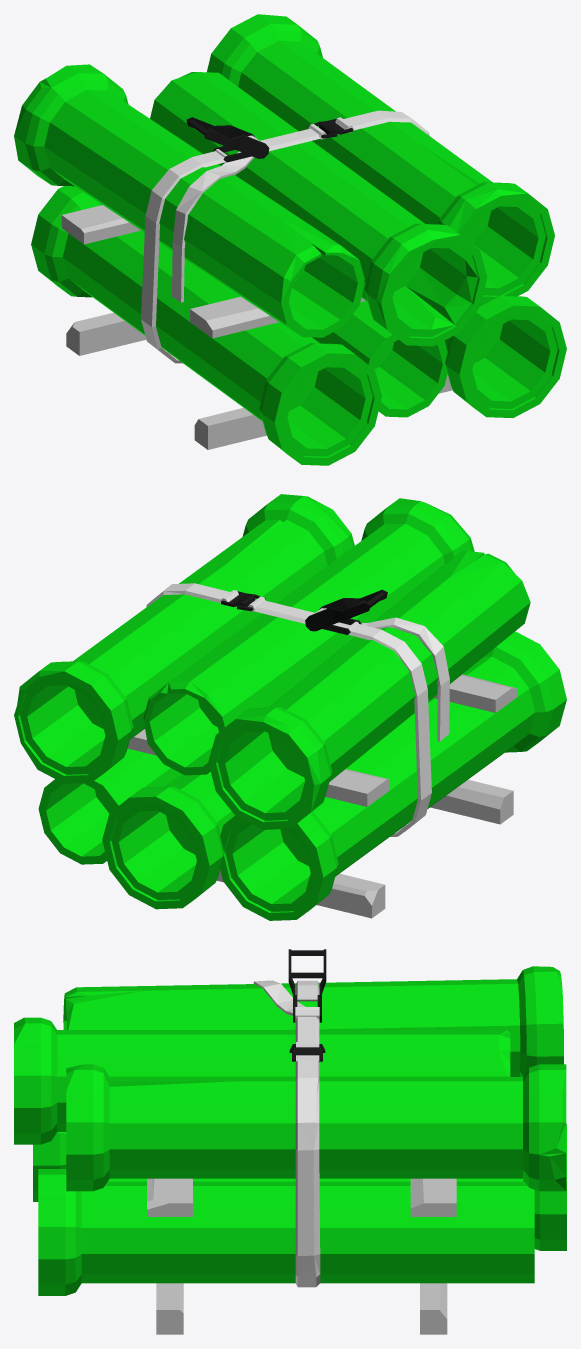
File: Construction_Pipe01.fbx
3 views of the same model, one above another, from view 1: azimuth 30°, elevation 25°; view 2: azimuth 150°, elevation 25°; view 3: azimuth 270°, elevation 25° (orthographic). The views are drawn at different scales.
Parts seen in each view (by area): view 1: SM_City_Construction_Pipe_02.mo; view 2: SM_City_Construction_Pipe_02.mo; view 3: SM_City_Construction_Pipe_02.mo.
Part boxes in pixels (left/top/right/bottom): SM_City_Construction_Pipe_02.mo: left=14, top=14, right=566, bottom=465; SM_City_Construction_Pipe_02.mo: left=14, top=494, right=566, bottom=920; SM_City_Construction_Pipe_02.mo: left=14, top=949, right=566, bottom=1334.
Size of the model in its own units: 143 by 113 by 216.
